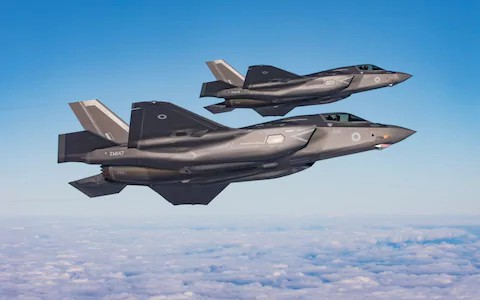F-35 Lightning: (44, 91, 437, 215), (193, 53, 422, 121)
